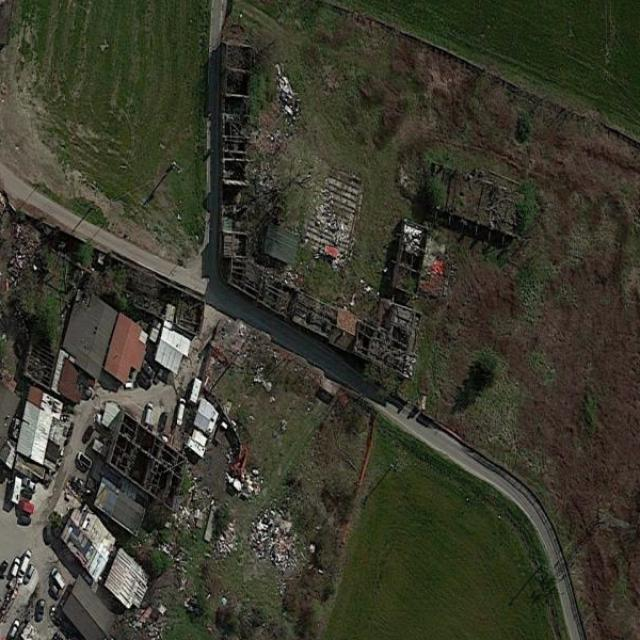dump_site: (242, 496, 310, 583), (167, 462, 217, 544), (216, 445, 268, 507), (205, 509, 245, 569)
